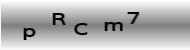7: (126, 11, 140, 25)
C: (74, 22, 88, 35)
R: (51, 12, 66, 26)
m: (103, 21, 124, 32)
p: (23, 27, 36, 41)
